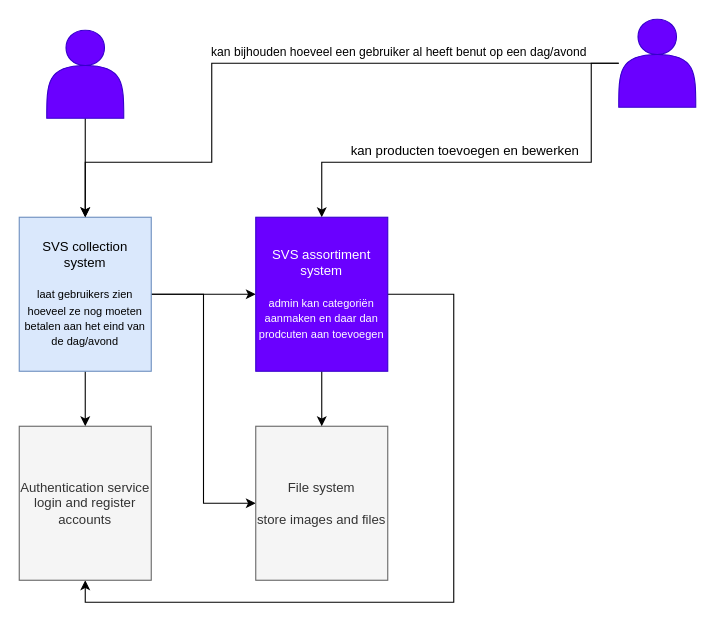
Some shapes in this 715 by 630 pixel diagram are drawn without their labels. The shapes that lost their labels are listed below. From the top down, each one's box as (x1, y1, x2, y2) in pixels, then its label:
(46, 29, 124, 118): User
(618, 18, 696, 107): Admin
